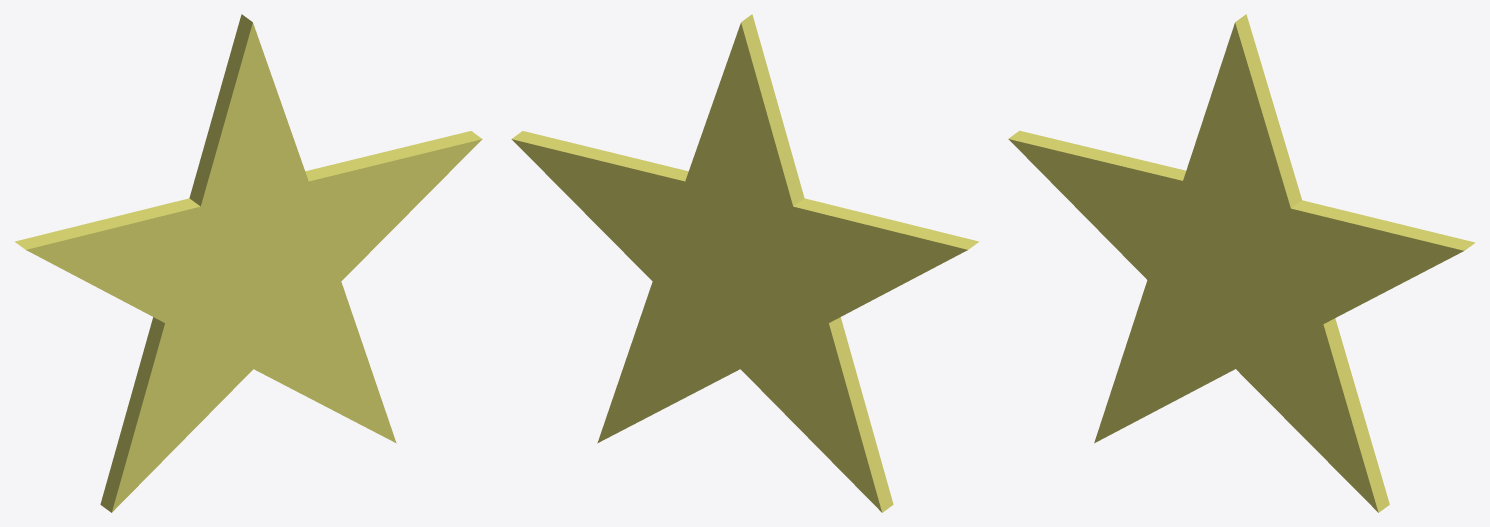
Rendered from symbol3.fbx.
3 views of the same model, side by side, from view 1: azimuth 30°, elevation 25°; view 2: azimuth 150°, elevation 25°; view 3: azimuth 330°, elevation 25° (orthographic).
Visible parts, largest first — view 1: Plane.002; view 2: Plane.002; view 3: Plane.002.
Boxes of the visible parts, box(x1,y1,x2,y2) form: Plane.002: box(15, 14, 482, 512); Plane.002: box(511, 14, 978, 512); Plane.002: box(1008, 14, 1475, 512).
Bounding box in the file's own units: 18.23 × 17.4 × 0.784.
